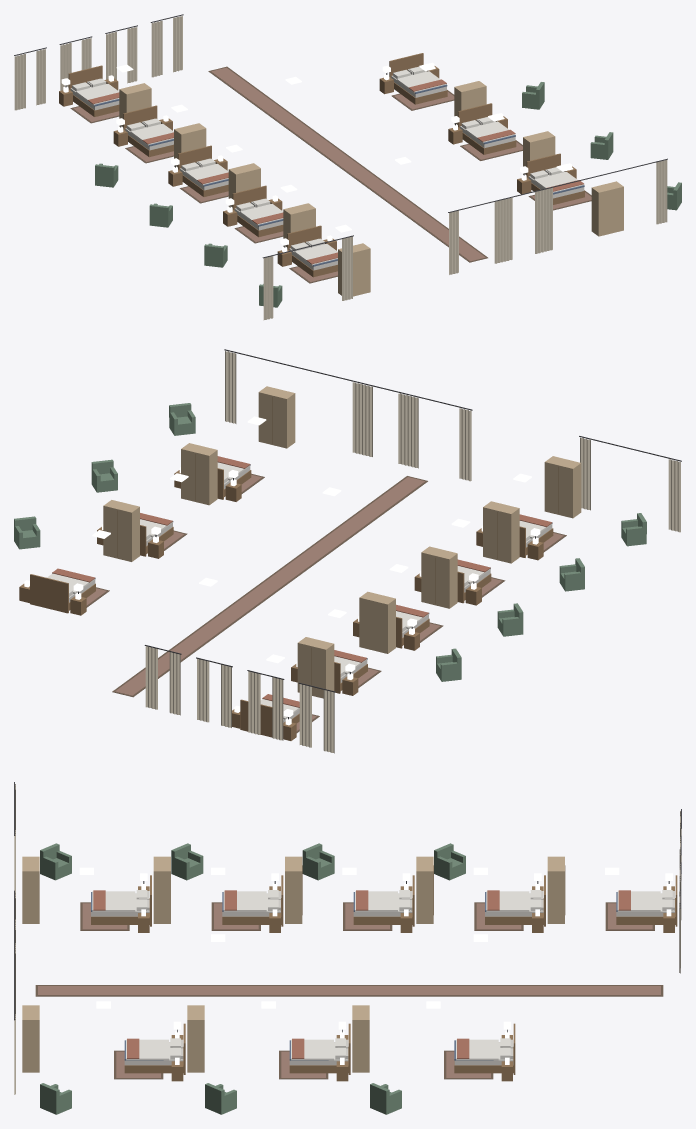
Rendered from fine-s2.glb.
3 renders of one model, top to bottom at view 1: azimuth 30°, elevation 25°; view 2: azimuth 150°, elevation 25°; view 3: azimuth 270°, elevation 25°, orthographic. The views are drawn at different scales.
Visible parts, largest first — view 1: soft-s2, dresser.010, bed-frame.009, bed-frame.008, bed-frame.014, bed-frame.011, bed-frame.013, dresser.015, bed-frame.012, bed-frame.015, bed-frame.010, dresser.011 (+10 smaller); view 2: soft-s2, dresser.015, dresser.010, dresser.014, dresser.012, dresser.013, dresser.009, dresser.008, dresser.011, bed-frame.008, bed-frame.011, lounge-chair.008 (+6 smaller); view 3: soft-s2, dresser.011, dresser.008, dresser.009, dresser.010, dresser.012, dresser.015, dresser.013, dresser.014, bed-frame.008, lounge-chair.011, lounge-chair.012 (+12 smaller).
Boxes of the visible parts, <box> form: soft-s2: <box>14,14,667,320</box>; dresser.010: <box>591,181,623,236</box>; bed-frame.009: <box>458,103,516,154</box>; bed-frame.008: <box>389,53,447,104</box>; bed-frame.014: <box>232,185,283,237</box>; bed-frame.011: <box>68,65,119,116</box>; bed-frame.013: <box>178,145,228,196</box>; dresser.015: <box>338,243,370,296</box>; bed-frame.012: <box>123,105,173,157</box>; bed-frame.015: <box>287,225,337,277</box>; bed-frame.010: <box>526,153,584,204</box>; dresser.011: <box>119,83,151,127</box>; soft-s2: <box>47,349,681,753</box>; dresser.015: <box>544,456,581,518</box>; dresser.010: <box>258,386,295,448</box>; dresser.014: <box>483,501,519,563</box>; dresser.012: <box>359,591,395,653</box>; dresser.013: <box>421,546,457,608</box>; dresser.009: <box>181,443,217,505</box>; dresser.008: <box>103,500,139,561</box>; dresser.011: <box>297,637,334,698</box>; bed-frame.008: <box>30,574,95,613</box>; bed-frame.011: <box>240,699,299,737</box>; lounge-chair.008: <box>91,459,117,492</box>; soft-s2: <box>14,782,681,1094</box>; dresser.011: <box>547,856,565,923</box>; dresser.008: <box>352,1005,369,1072</box>; dresser.009: <box>187,1005,204,1072</box>; dresser.010: <box>22,1005,39,1072</box>; dresser.012: <box>416,856,433,923</box>; dresser.015: <box>22,856,39,923</box>; dresser.013: <box>285,856,302,923</box>; dresser.014: <box>153,856,170,923</box>; bed-frame.008: <box>454,1023,515,1074</box>; lounge-chair.011: <box>302,843,334,880</box>; lounge-chair.012: <box>171,843,203,880</box>.
Bounding box in the file's own units: 20.84 × 2.93 × 22.99.
